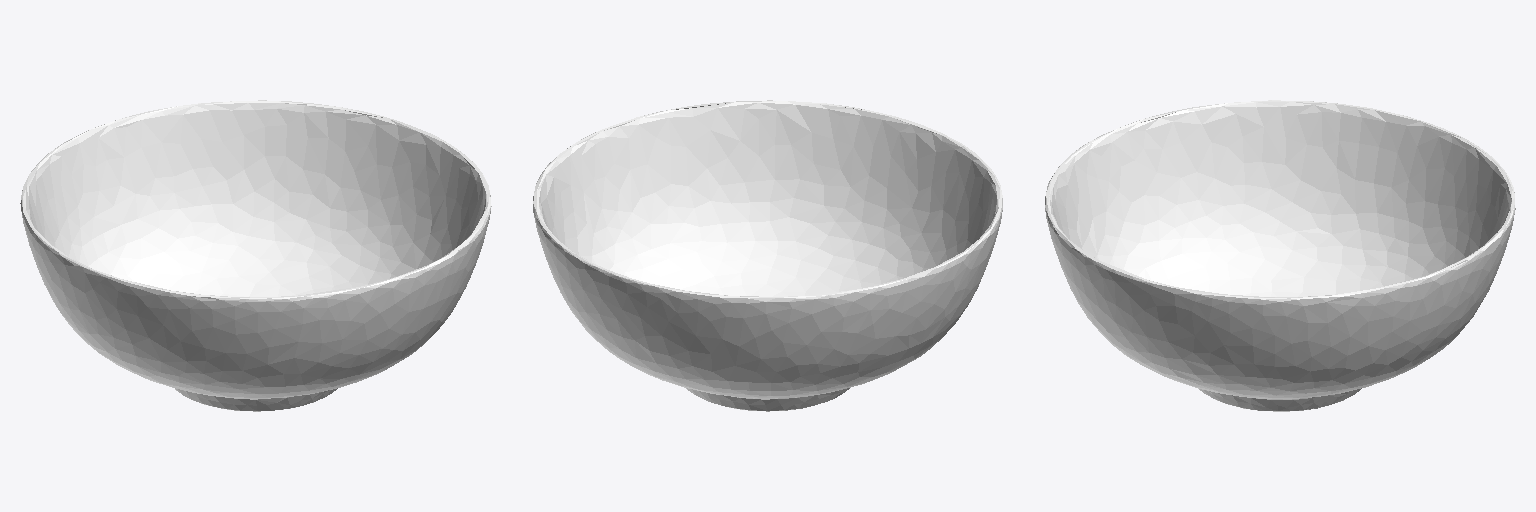
URDF robot description (bowl):
<?xml version="1.0" ?>
<robot name="bowl">

  <material name="white">
    <color rgba="1 1 1 1"/>
  </material>

  <link name="root">
    <inertial>
      <mass value="0.1"/>
      <origin rpy="0 0 0" xyz="0 0 0.03"/>
      <inertia ixx="1" ixy="0" ixz="0" iyy="1" iyz="0" izz="1"/>
    </inertial>
    <visual>
      <origin rpy="1.57079632679 0 0" xyz="0 0 0"/>
      <geometry>
        <mesh filename="bowl.obj" scale="0.75 0.75 0.75"/>
      </geometry>
      <material name="white"/>
    </visual>
    <collision>
      <origin rpy="1.57079632679 0 0" xyz="0 0 0"/>
      <geometry>
        <mesh filename="bowl_vhacd.obj" scale="0.75 0.75 0.75"/>
      </geometry>
    </collision>
  </link>
</robot>


--- Facts derived from the render (not from the file) ---
Views: 3 orthographic renders of the robot side by side, from view 1: azimuth 30°, elevation 25°; view 2: azimuth 150°, elevation 25°; view 3: azimuth 270°, elevation 25°.
Robot: bowl — 1 links, 0 joints (none); root link root; default pose: all joints at 0.
Visible links, largest first — view 1: root; view 2: root; view 3: root.
Link boxes in pixels (x1,y1,x2,y2): root: (20,100,491,411); root: (533,100,1002,411); root: (1045,100,1515,411).
Size in the robot's own frame: 0.1444 by 0.1443 by 0.0599 metres.
1 mesh visuals loaded from 1 distinct referenced files (1 OBJ).